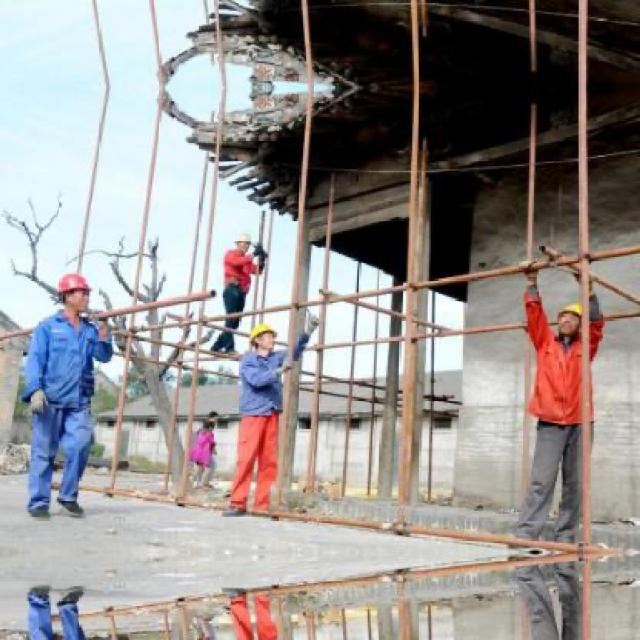helmet: (54, 266, 94, 312), (555, 298, 588, 342), (248, 321, 277, 354), (234, 228, 255, 252)
